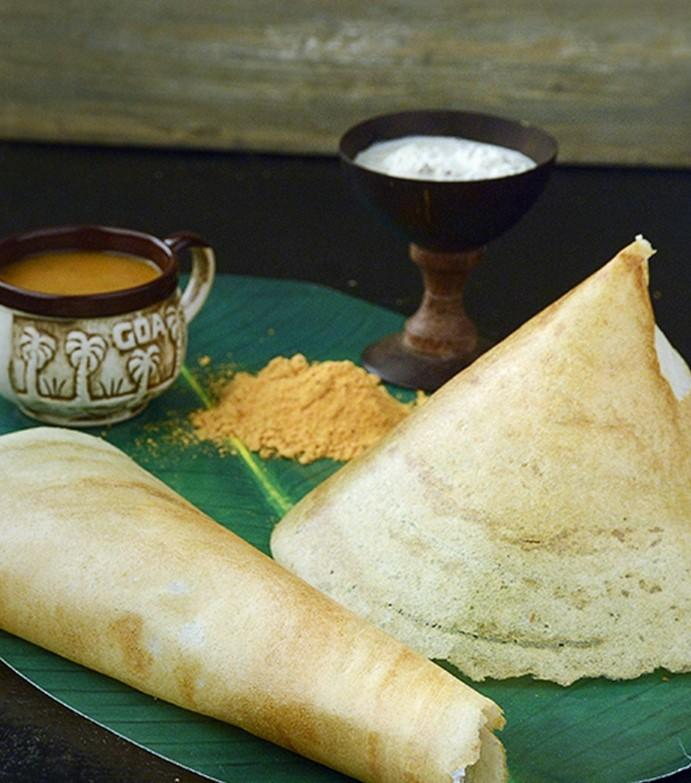Dosa: (271, 235, 691, 686), (0, 428, 506, 783)
